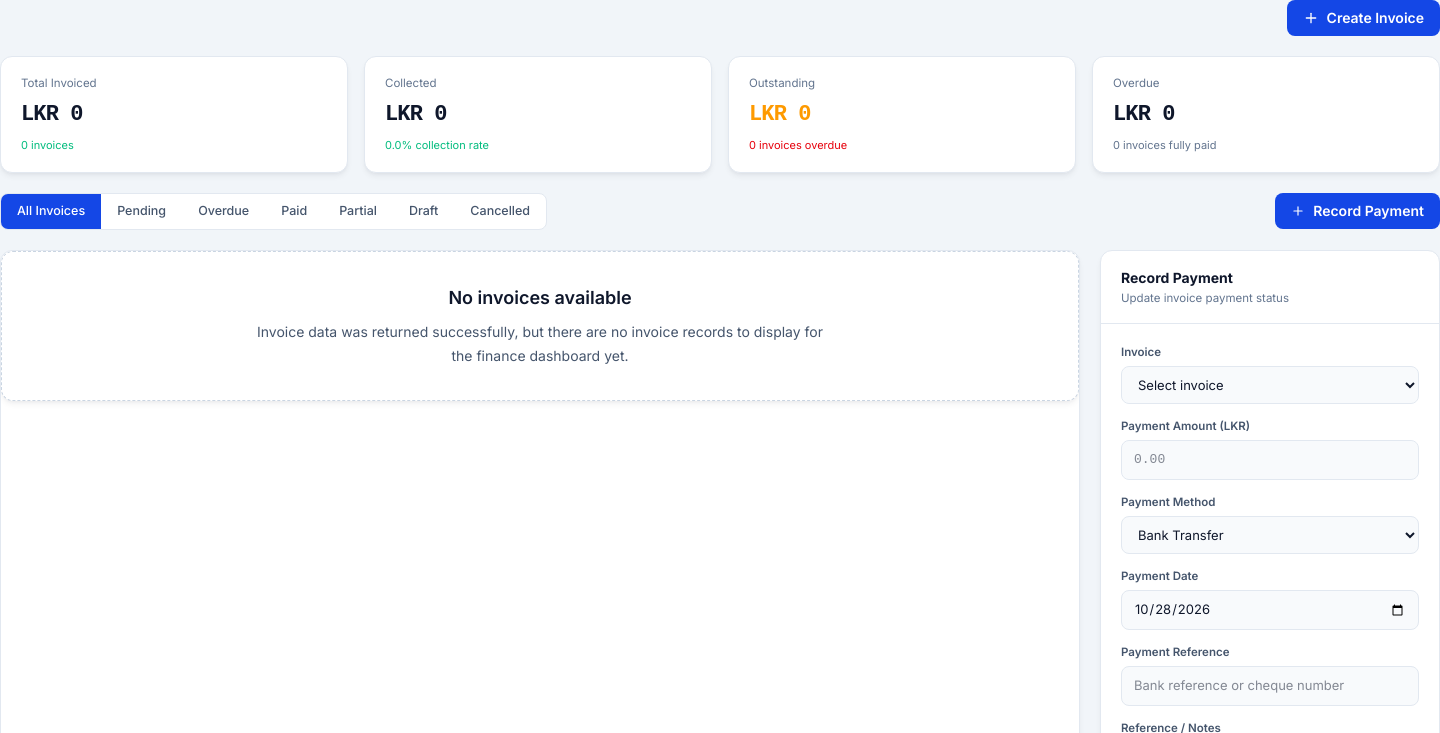
refreshes invoice listings and dashboard summaries after creation
Expected: the heading "No invoices available" is shown, [448,286,632,308]
Click the button "Create Invoice" at (1363, 18), box [1287,0,1439,36]
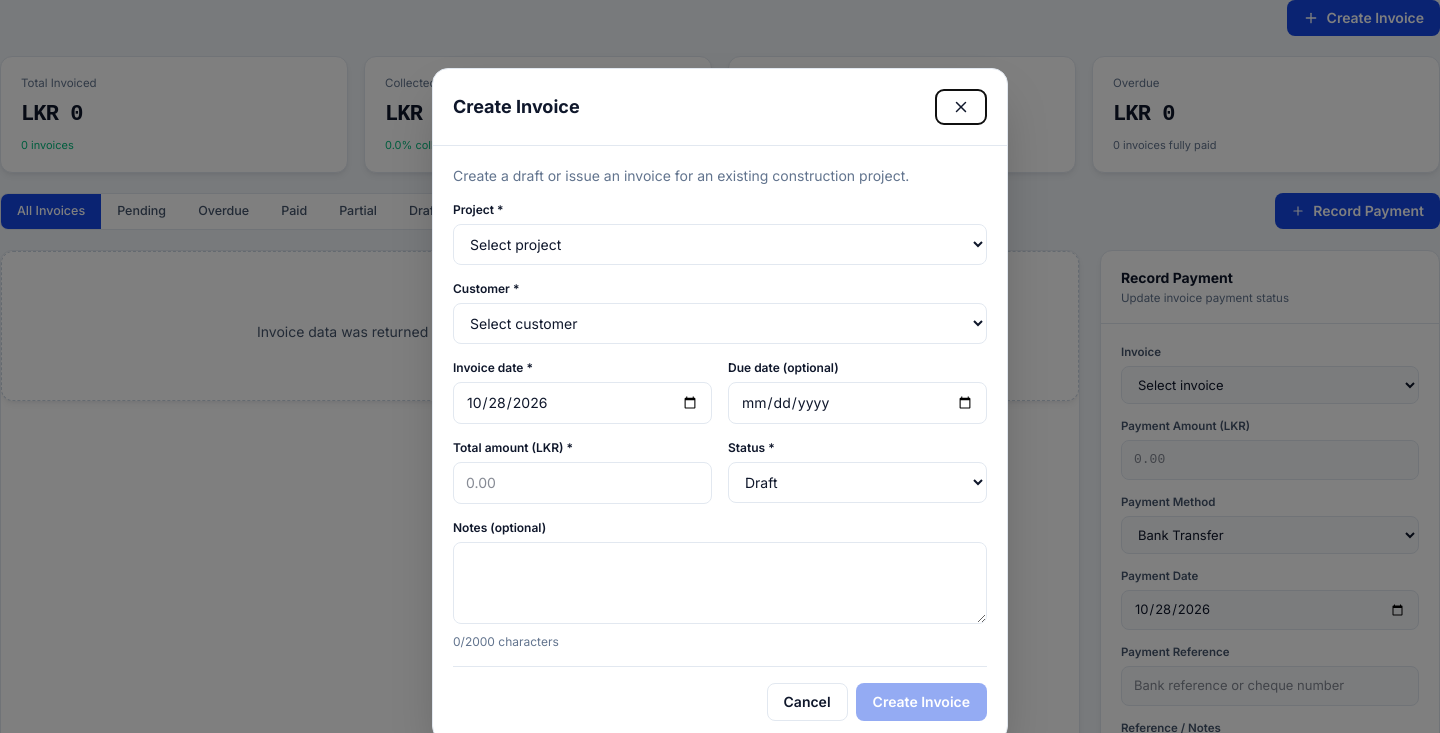
Select "Site Alpha" in the dropdown labelled "Project *" at (720, 244), box [453,224,987,265]
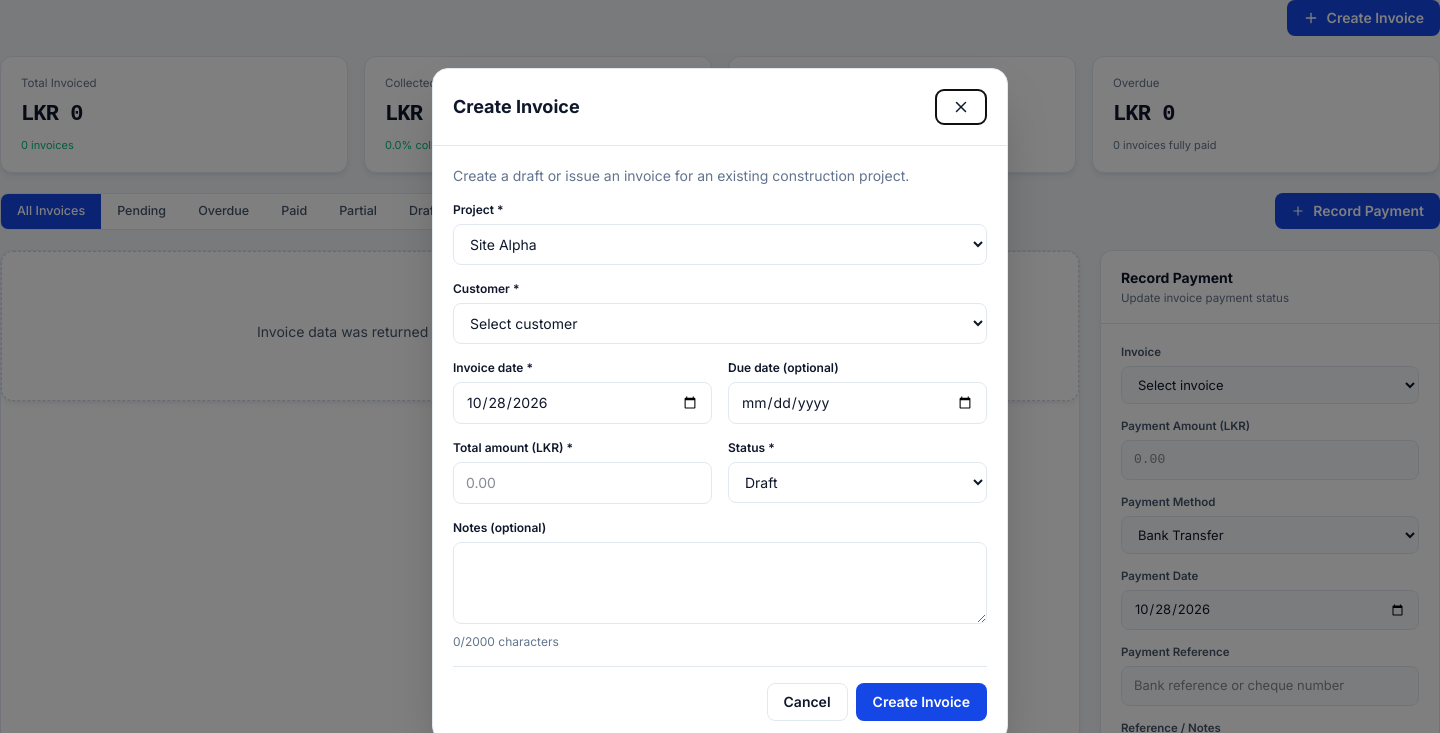
Select "Alice Customer" in the dropdown labelled "Customer *" at (720, 324), box [453,303,987,344]
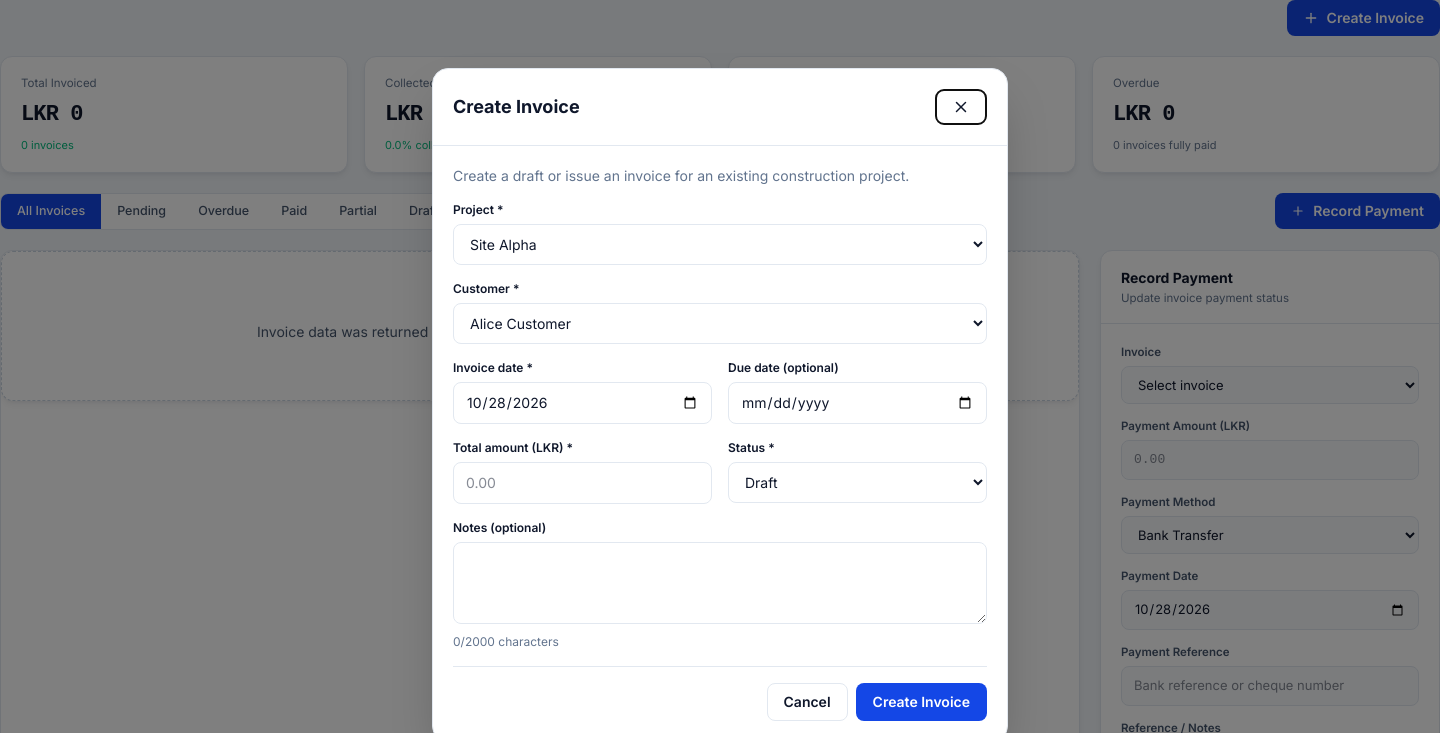
Type "125.50" into the field labelled "Total amount (LKR) *" at (582, 483), box [453,462,712,504]
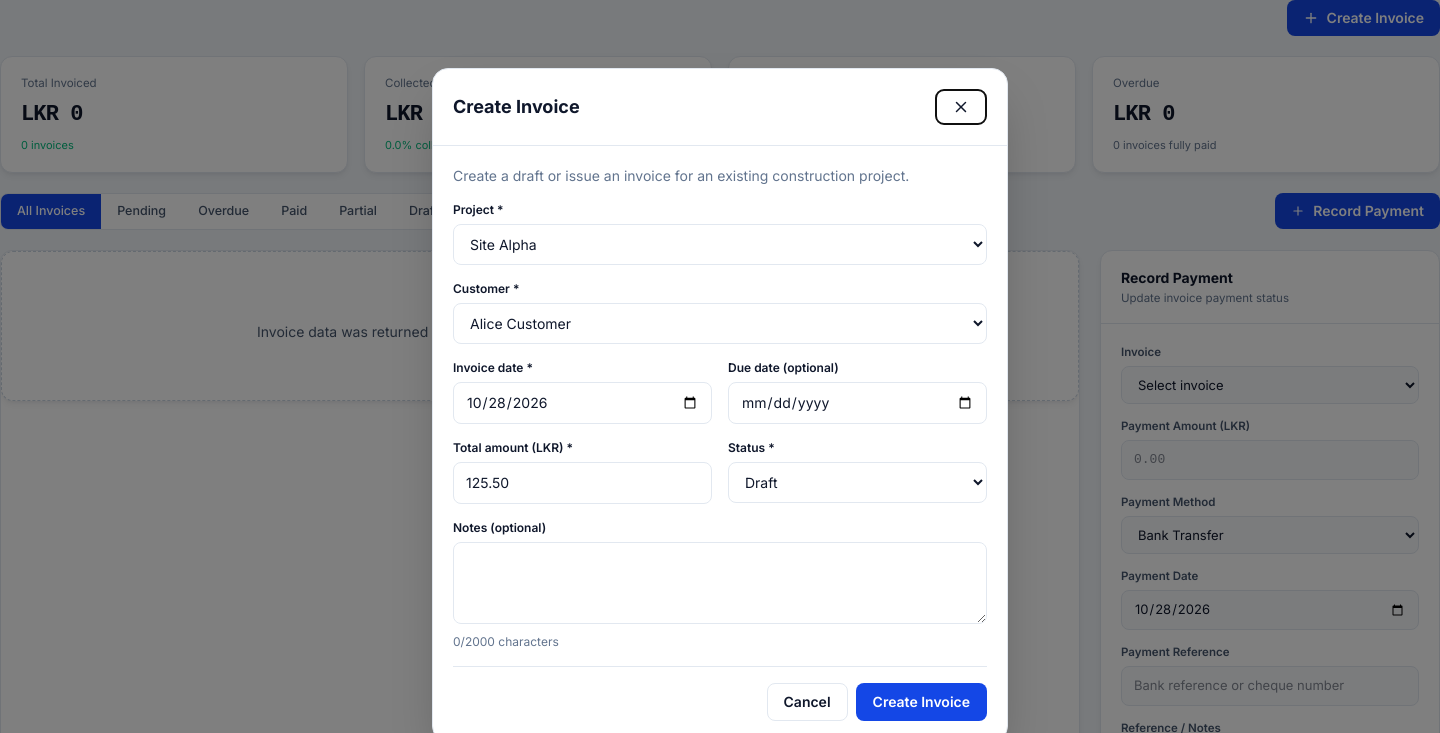
Click the button "Create Invoice" at (921, 702), box [856,683,987,721]
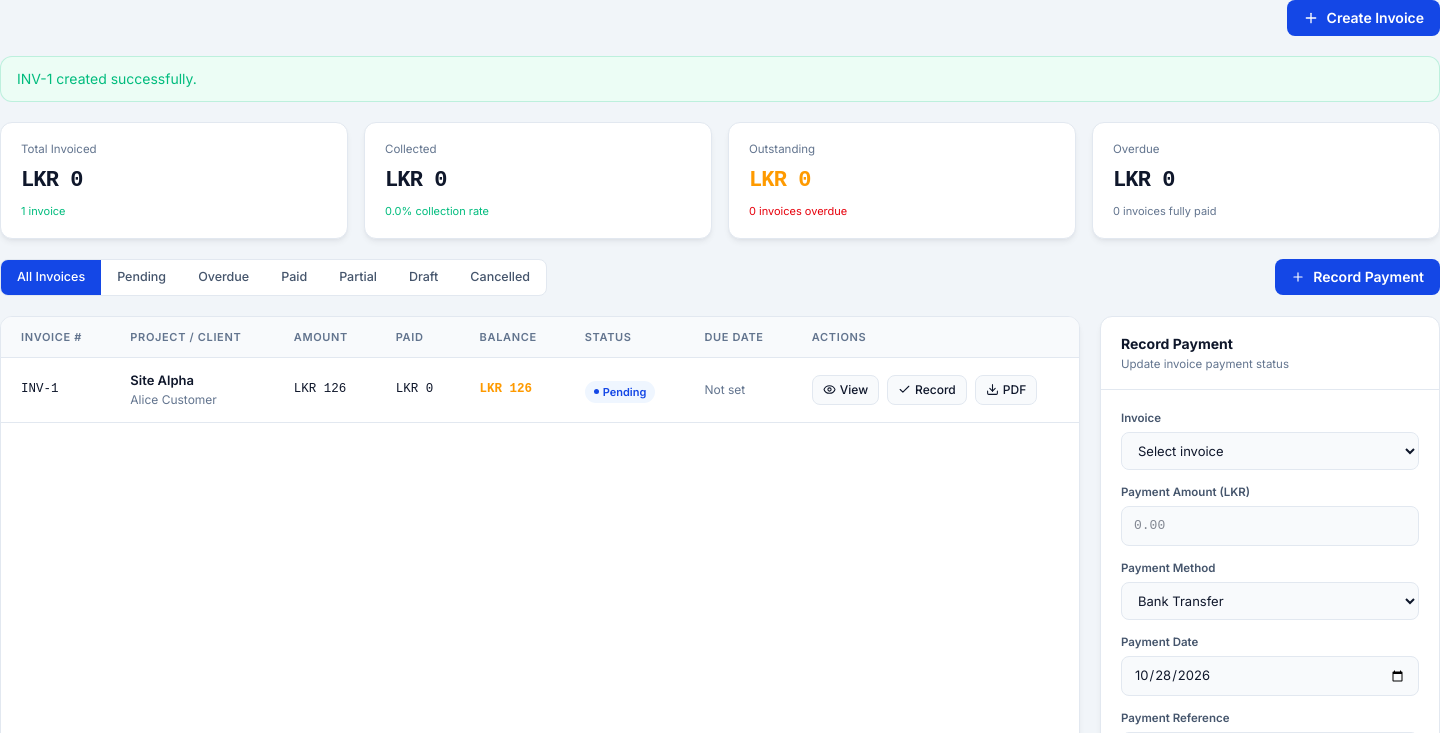
Expected: the text "INV-1 created successfully." is shown, [0,56,1439,102]
Expected: the text "INV-1" is shown, [1,358,110,422]
